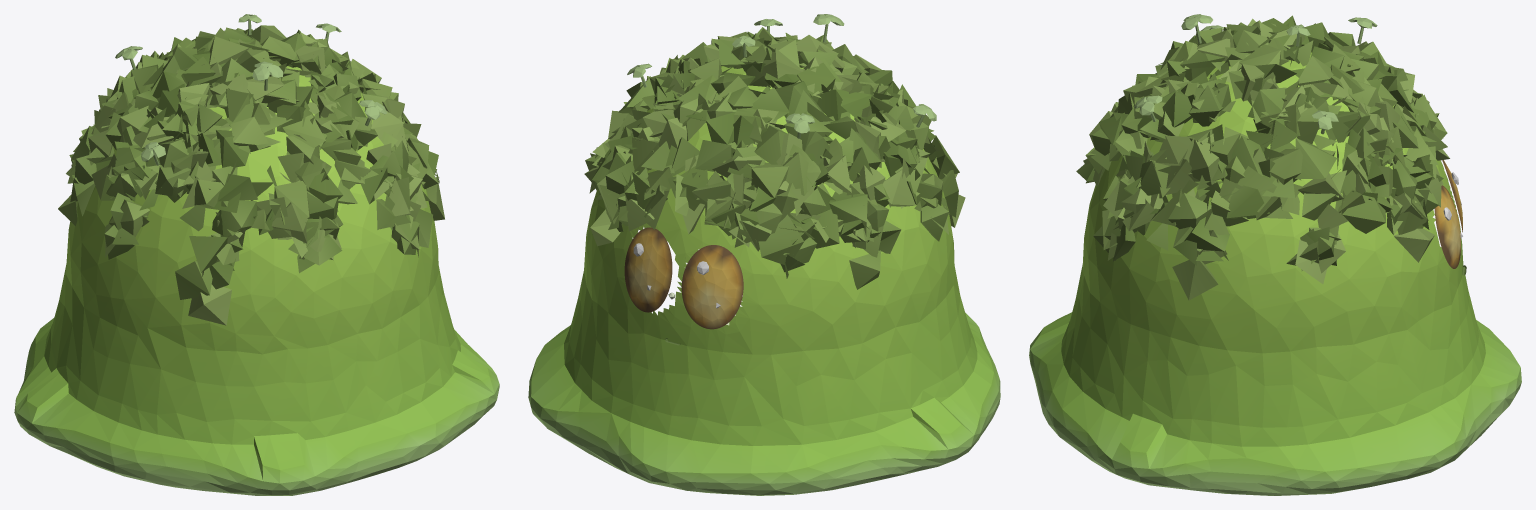
File: brood_slime_roblox.glb
3 renders of one model, left to right at view 1: azimuth 30°, elevation 25°; view 2: azimuth 150°, elevation 25°; view 3: azimuth 270°, elevation 25°, orthographic. The views are drawn at different scales.
Visible parts, largest first — view 1: Body, Decor; view 2: Body, Decor, Eyes; view 3: Body, Decor, Eyes.
Boxes of the visible parts, <box> form: Body: <box>14,66,499,495</box>; Decor: <box>58,14,444,325</box>; Body: <box>528,66,1000,495</box>; Decor: <box>584,14,965,345</box>; Eyes: <box>624,227,743,329</box>; Body: <box>1029,52,1521,495</box>; Decor: <box>1076,14,1466,300</box>; Eyes: <box>1434,160,1462,268</box>.
Size of the model in its own units: 2.7 by 2.32 by 2.71.
